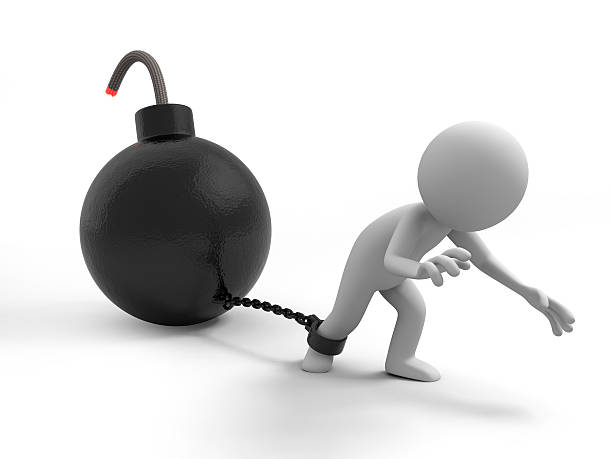e1: (85, 51, 270, 331)
